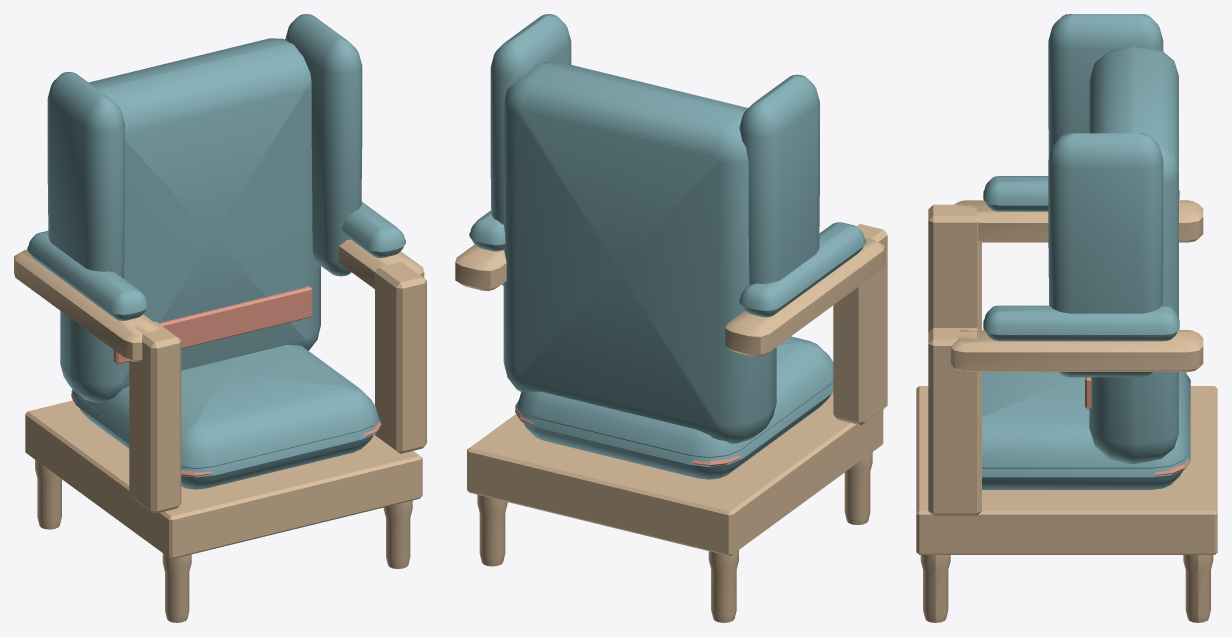
The model's file is care-home-and-day-room-high-back-armchair-07f7c933__35719.glb.
3 views of the same model, side by side, from view 1: azimuth 30°, elevation 25°; view 2: azimuth 150°, elevation 25°; view 3: azimuth 270°, elevation 25° (orthographic). The views are drawn at different scales.
Parts seen in each view (by area): view 1: high-back-armchair; view 2: high-back-armchair; view 3: high-back-armchair.
Boxes of the visible parts, left/top/right/bottom form: high-back-armchair: left=14, top=14, right=426, bottom=622; high-back-armchair: left=455, top=14, right=887, bottom=622; high-back-armchair: left=916, top=14, right=1217, bottom=622.
Size of the model in its own units: 0.73 by 1.11 by 0.62.
